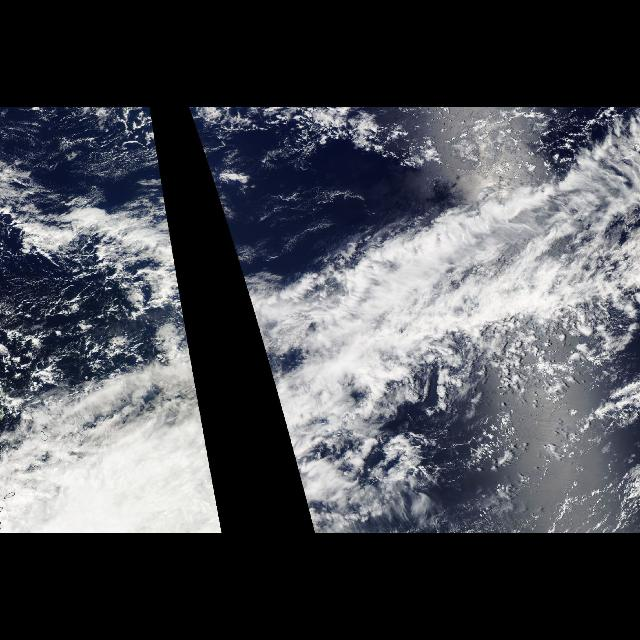Gravel: (0, 242, 162, 396)
